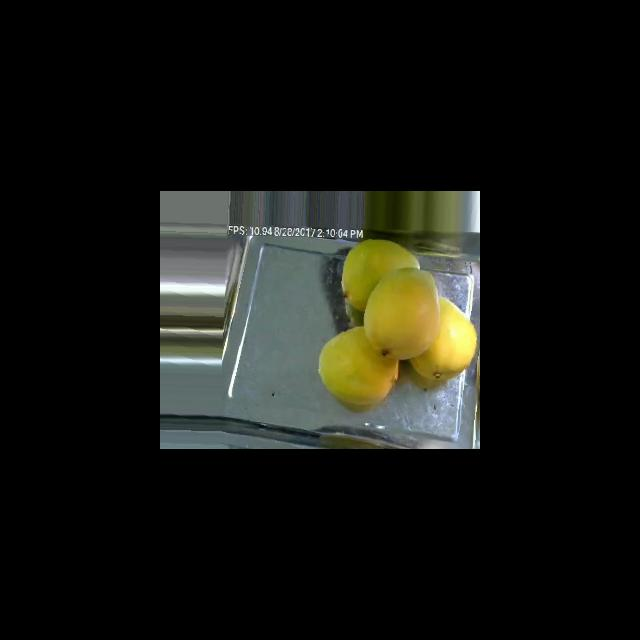mango: (318, 238, 477, 409), (363, 267, 440, 360), (318, 325, 399, 407), (409, 295, 477, 380), (341, 238, 419, 312)
